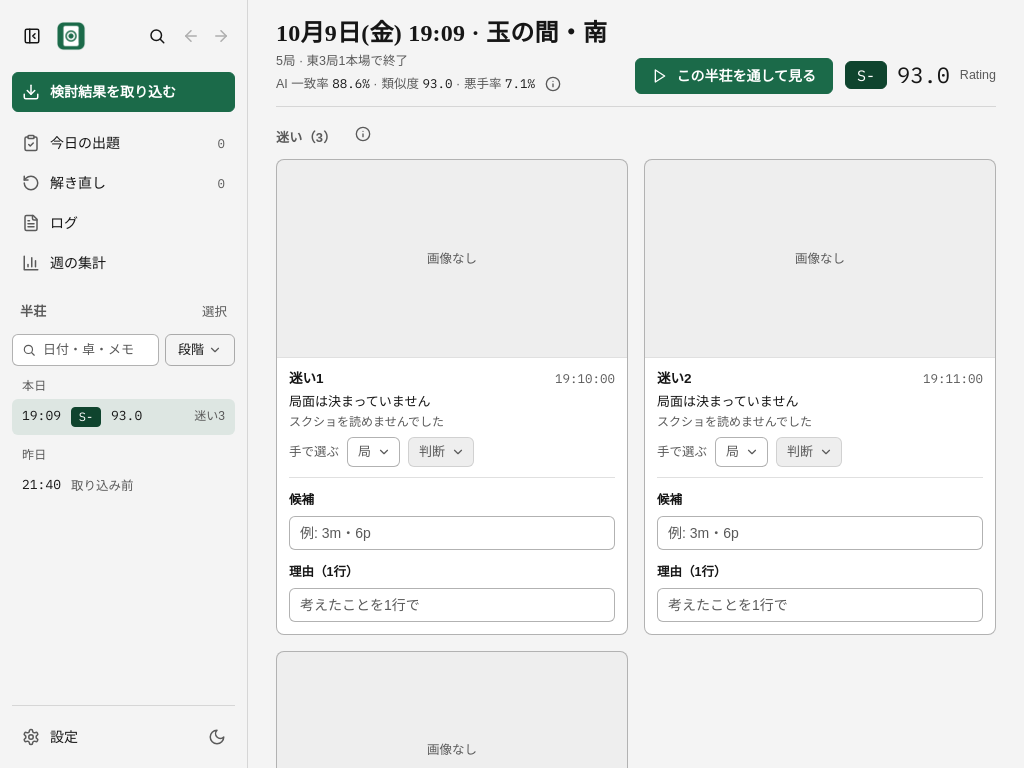
Test case: 検討画面のシェル（U-8） › 起動すると、いちばん新しい半荘が開く（行に印が付く）。半荘と設定を切り替える。選んでいる行き先に aria-current が付く
Expected: the heading "10月9日(金) 19:09 · 玉の間・南" is shown, [276, 18, 607, 49]
Click the button "設定".
click(104, 737)  # box [12, 718, 195, 756]
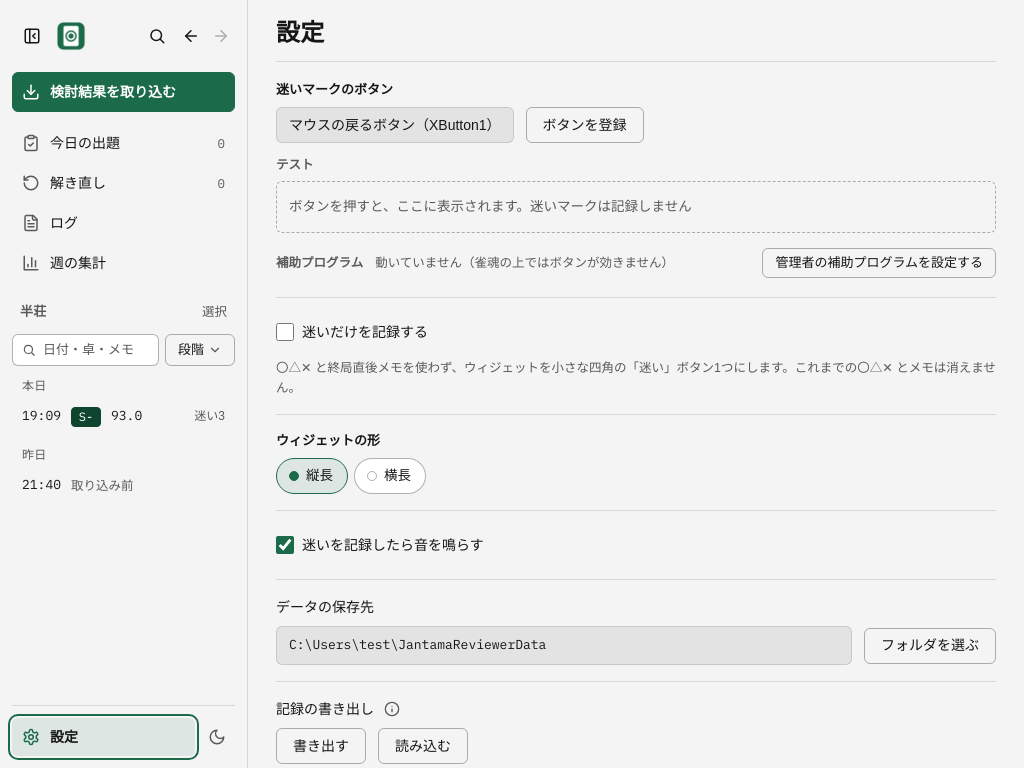
Expected: the heading "設定" is shown, [276, 18, 324, 49]
Click the button "21:40 取り込み前".
click(124, 486)  # box [12, 468, 235, 504]
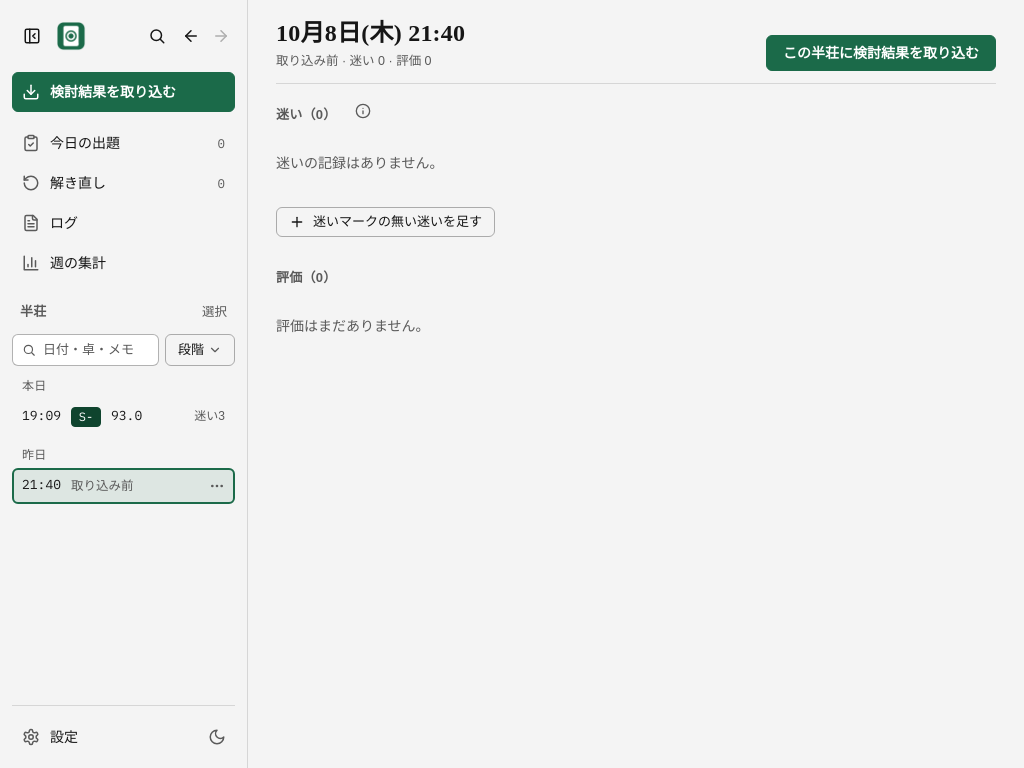
Expected: the heading "10月8日(木) 21:40" is shown, [276, 18, 465, 49]
